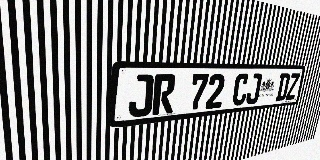2: (205, 74, 226, 109)
7: (188, 74, 209, 111)
C: (231, 74, 250, 106)
D: (275, 73, 291, 101)
J: (128, 74, 154, 118), (245, 73, 263, 105)
R: (152, 74, 176, 115)
Z: (285, 73, 300, 100)
